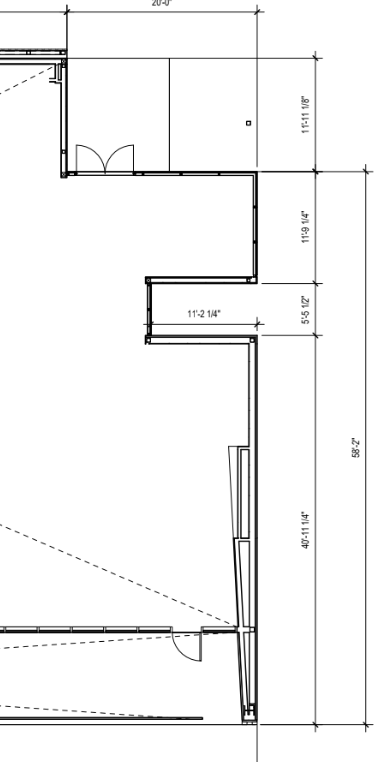door: (169, 623, 210, 663)
double door: (72, 141, 140, 175)
